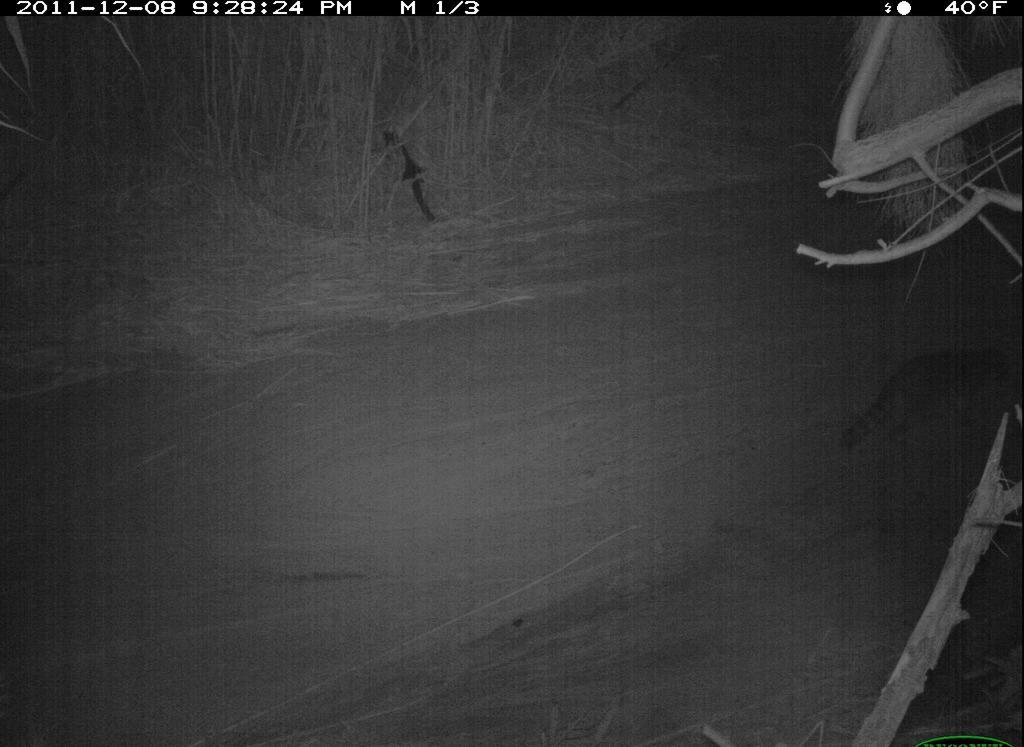raccoon: (839, 344, 1017, 457)
